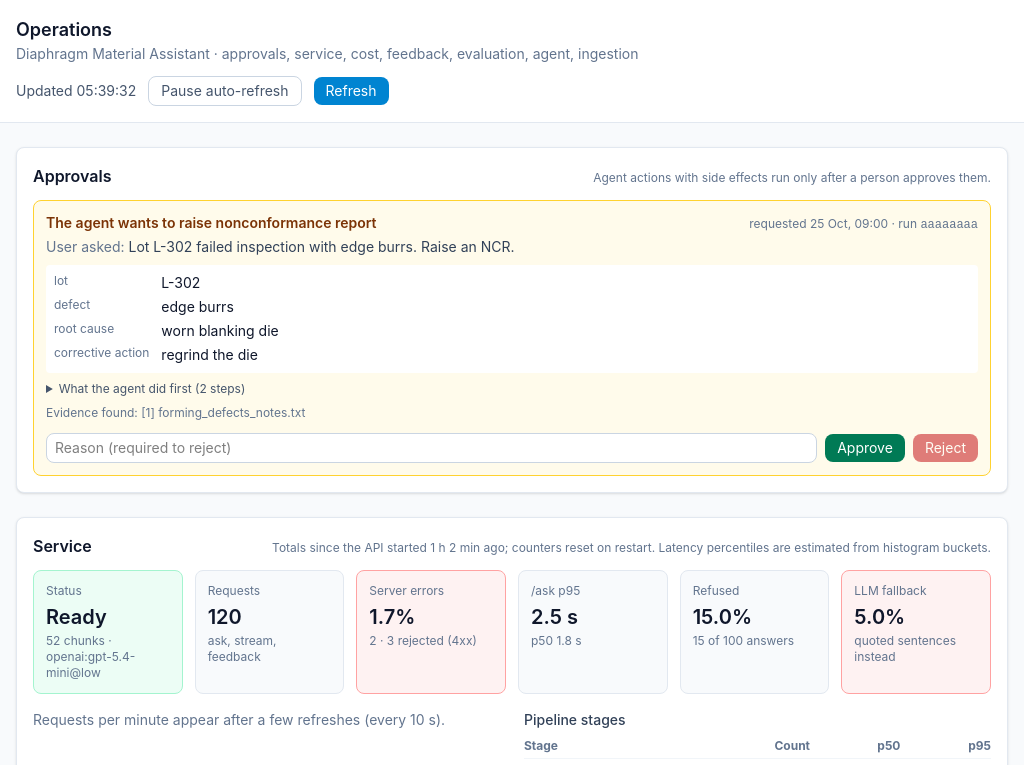
Scenario: Approvals › rejects with a reason
In the field labelled "Reason (required to reject)": [432, 448] box [46,433,817,463], type " wrong lot "
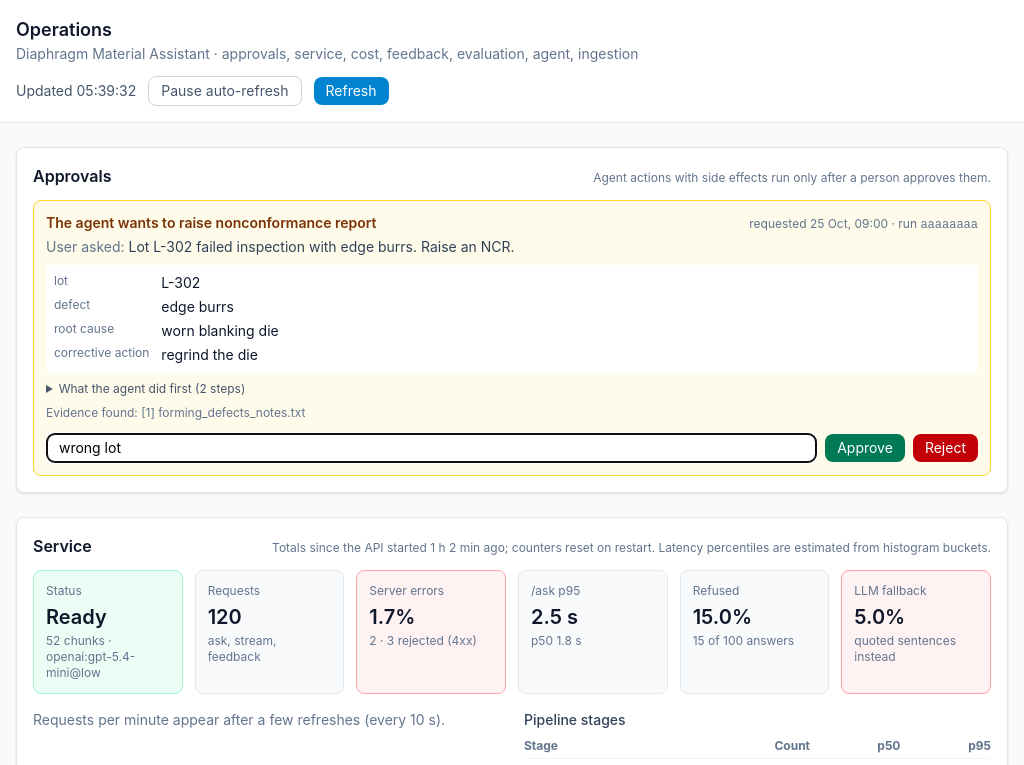
Click the button "Reject": [945, 448] box [913,434,978,462]
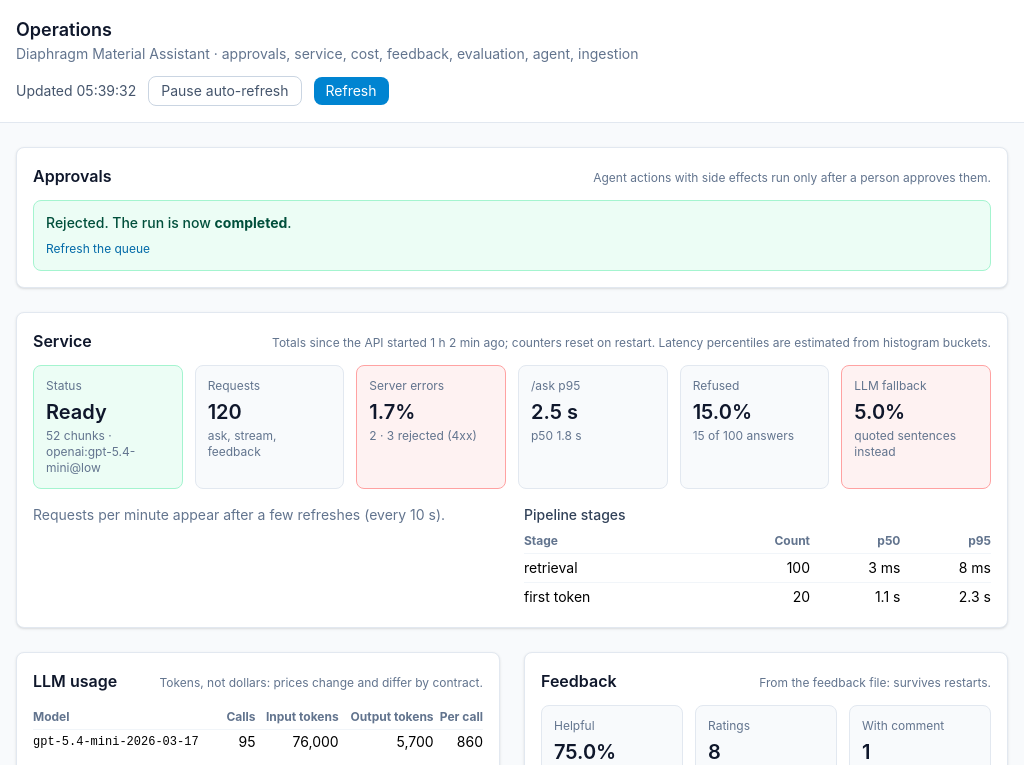
Check: the text "Rejected. The run is now completed." is shown, box [46,214,292,231]
